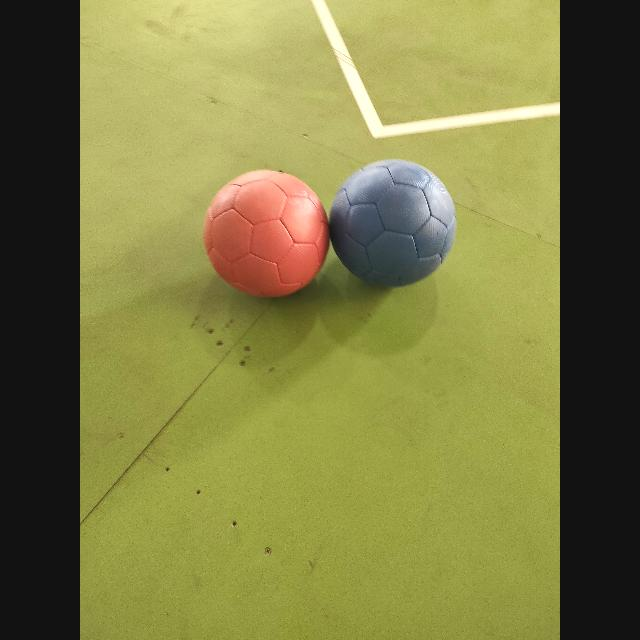B: (330, 160, 456, 287)
R: (204, 171, 329, 297)
